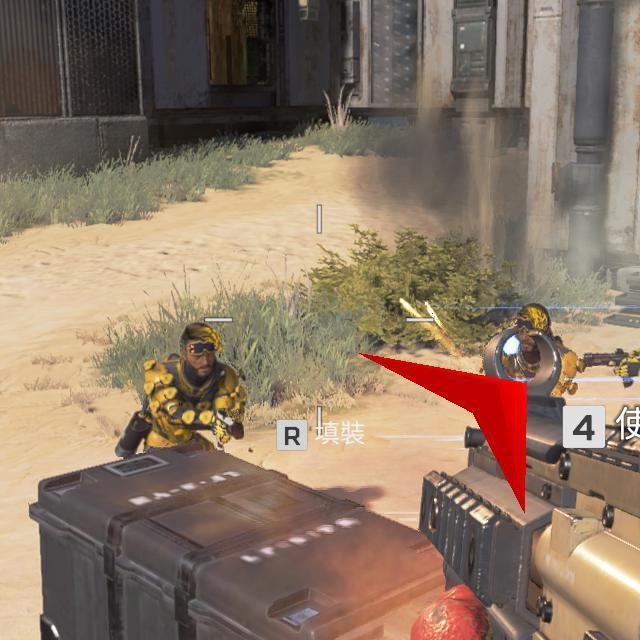avatar: (110, 321, 246, 444)
